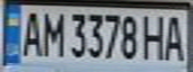3: (63, 9, 87, 58), (84, 10, 106, 58)
7: (103, 11, 121, 60)
8: (118, 11, 142, 61)
A: (160, 11, 190, 62), (18, 8, 45, 57)
H: (139, 11, 169, 61)
M: (39, 8, 66, 57)
